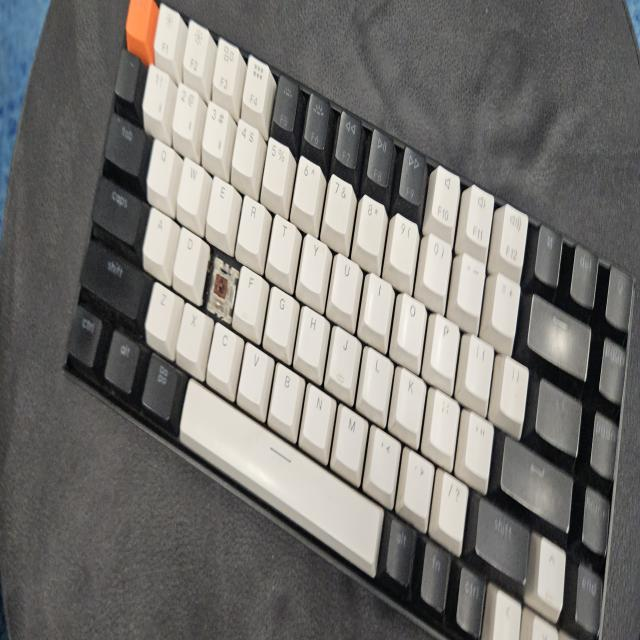C: (214, 265, 232, 319)
